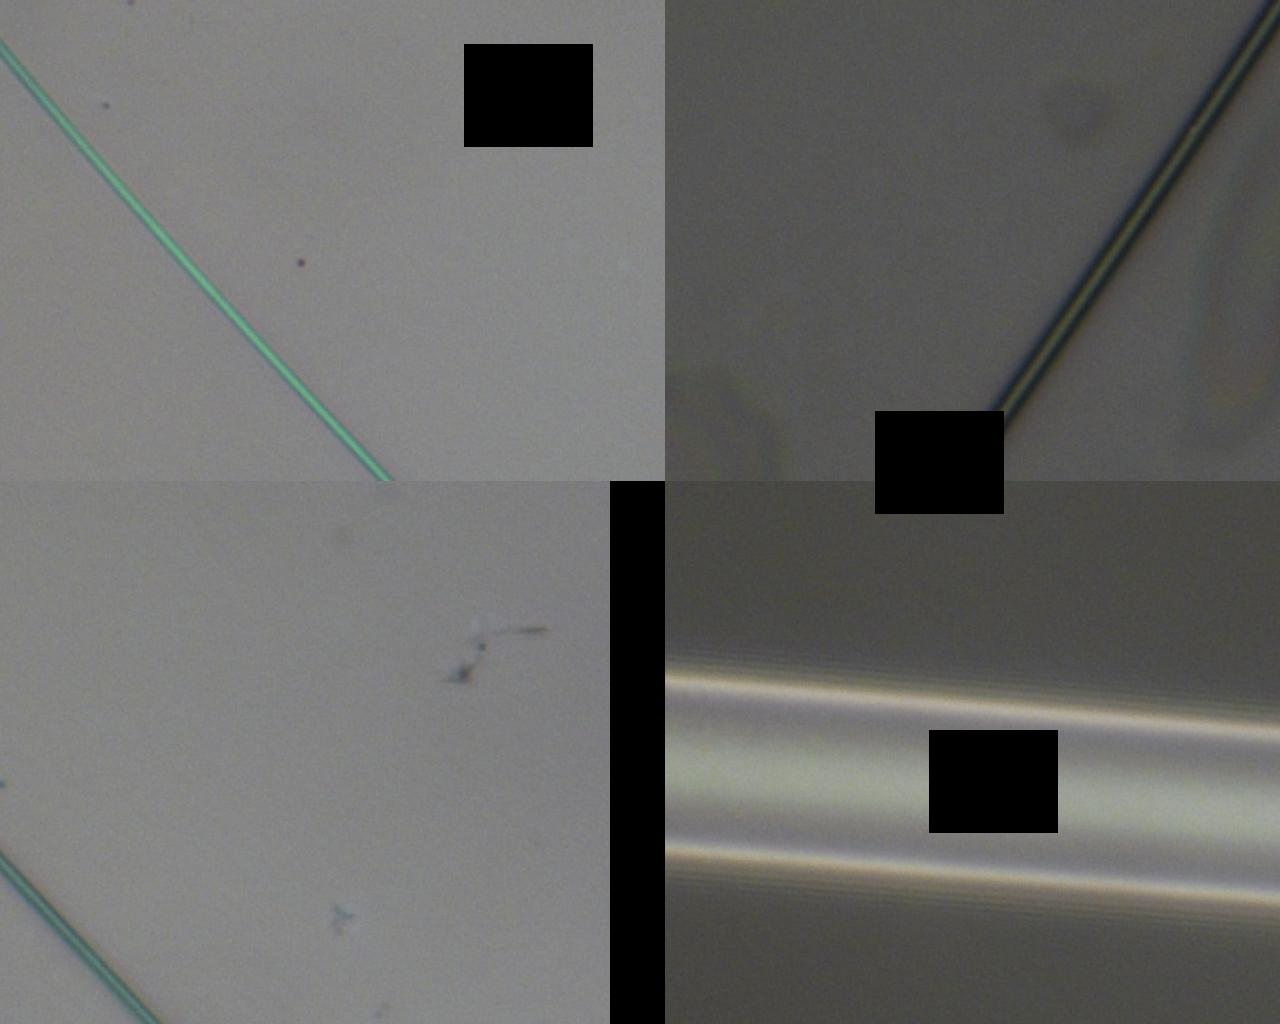fiber: (173, 555, 1280, 1024)
